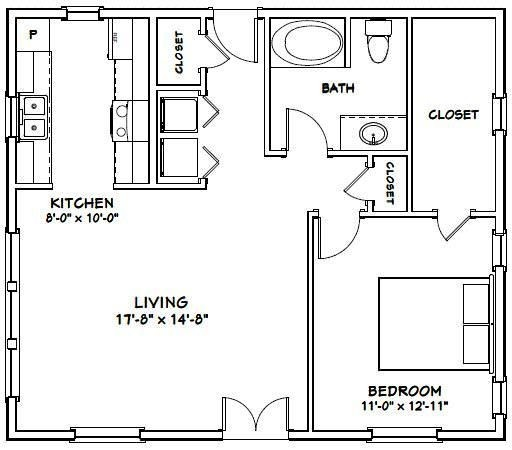door: (218, 392, 297, 445), (212, 4, 267, 72), (312, 209, 366, 263), (278, 102, 327, 157), (342, 166, 387, 206), (204, 143, 238, 188), (194, 30, 231, 68), (201, 94, 236, 132), (433, 214, 467, 240)
room: (4, 185, 318, 441), (4, 2, 265, 212), (263, 4, 510, 212), (305, 201, 509, 440)
wall: (263, 6, 510, 23), (304, 216, 320, 437), (493, 136, 509, 236), (8, 4, 69, 28)
window: (6, 232, 29, 394), (69, 418, 144, 447), (369, 425, 452, 449)
